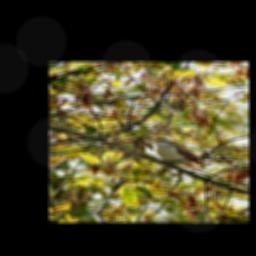Cuckoo: (142, 135, 212, 168)
